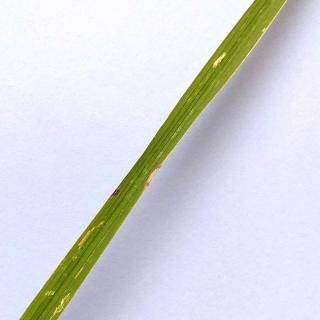Blast: (68, 212, 110, 260), (145, 167, 167, 191), (212, 50, 230, 70)
